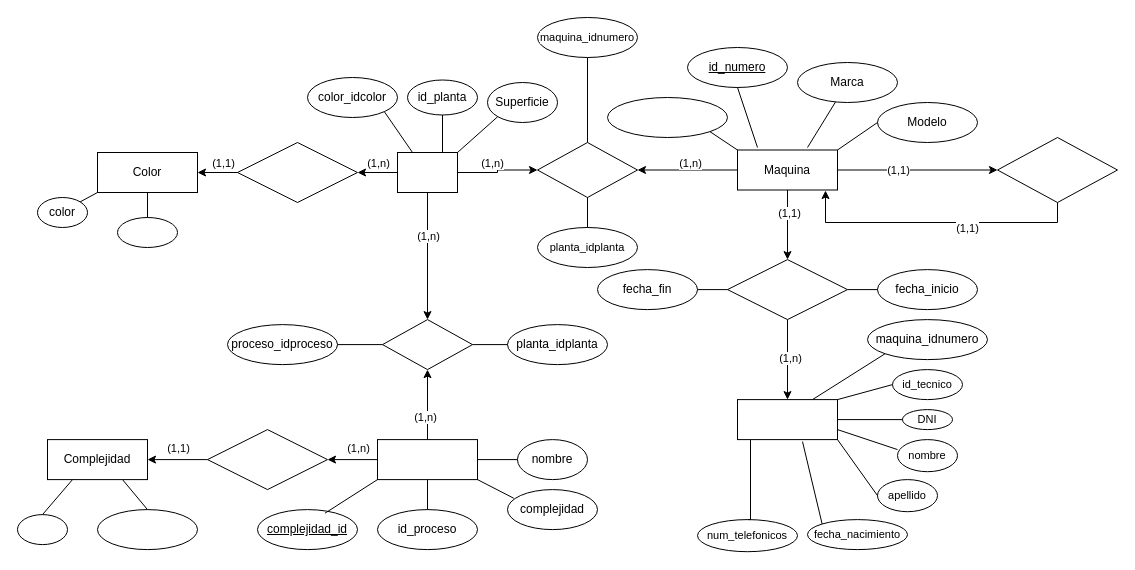
Some shapes in this 1135 by 570 pixel diagram are drawn without their labels. The centre of each missing label's shape, as x and y in pixels:
"consta de" goes at pixel 427 344.
"es operada por" goes at pixel 787 289.
"es reemplazada por" goes at pixel 1057 169.
"grado" goes at pixel 42 529.
"id_color" goes at pixel 147 232.
"id_complejidad" goes at pixel 147 529.
"id_reemplazo" goes at pixel 667 117.
"identificada por" goes at pixel 297 172.
"Planta" goes at pixel 427 172.
"Proceso" goes at pixel 427 459.
"Se encuentran" goes at pixel 587 170.
"Tecnico" goes at pixel 787 419.
"tiene un grado de" goes at pixel 267 459.
